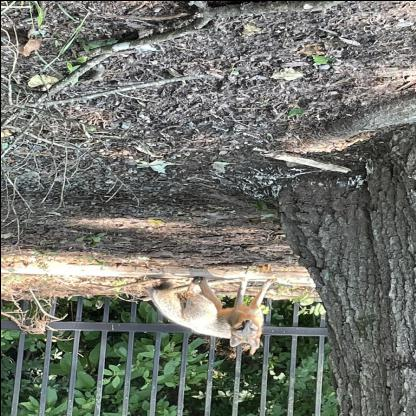zorro: (141, 272, 294, 354)
